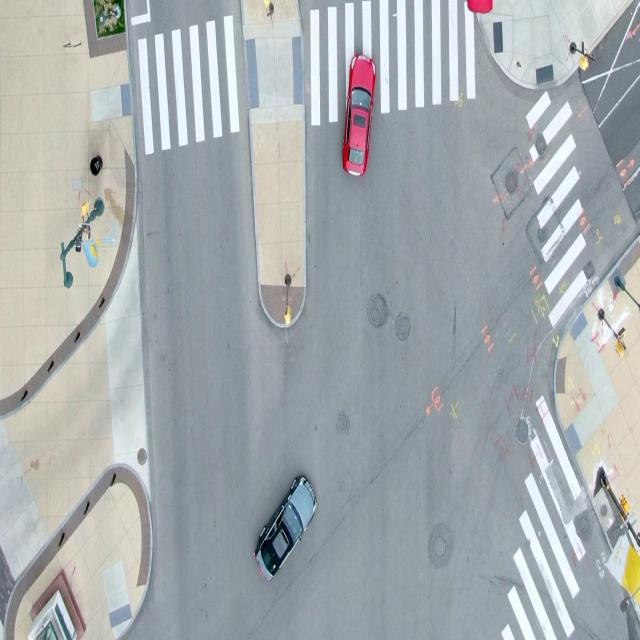Car: (256, 472, 319, 581), (338, 52, 378, 181)
